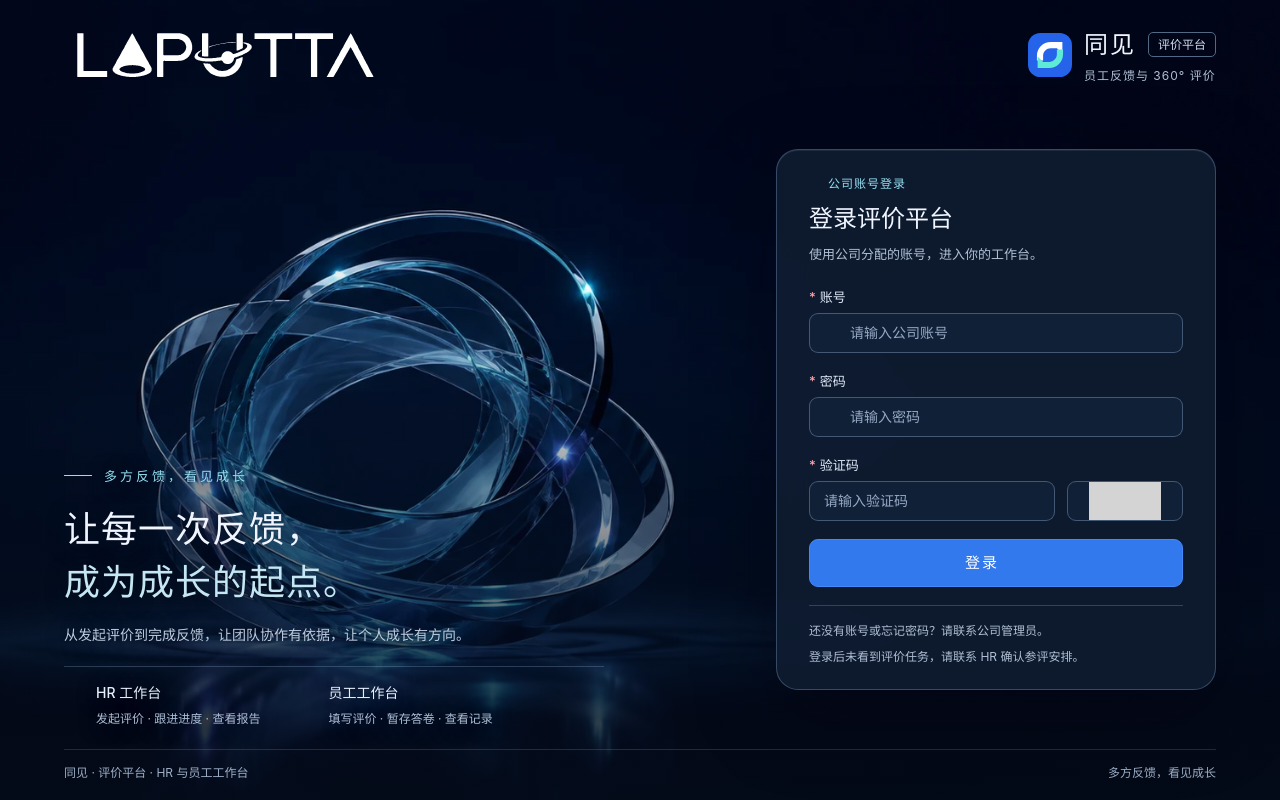
Test: 评价平台登录表单 › 验证码刷新期间不允许提交，并清空上一张验证码输入
Type " employee " into the field named "username".
click(1009, 333); type(" employee ")  # box x1=850 y1=314 x2=1168 y2=352
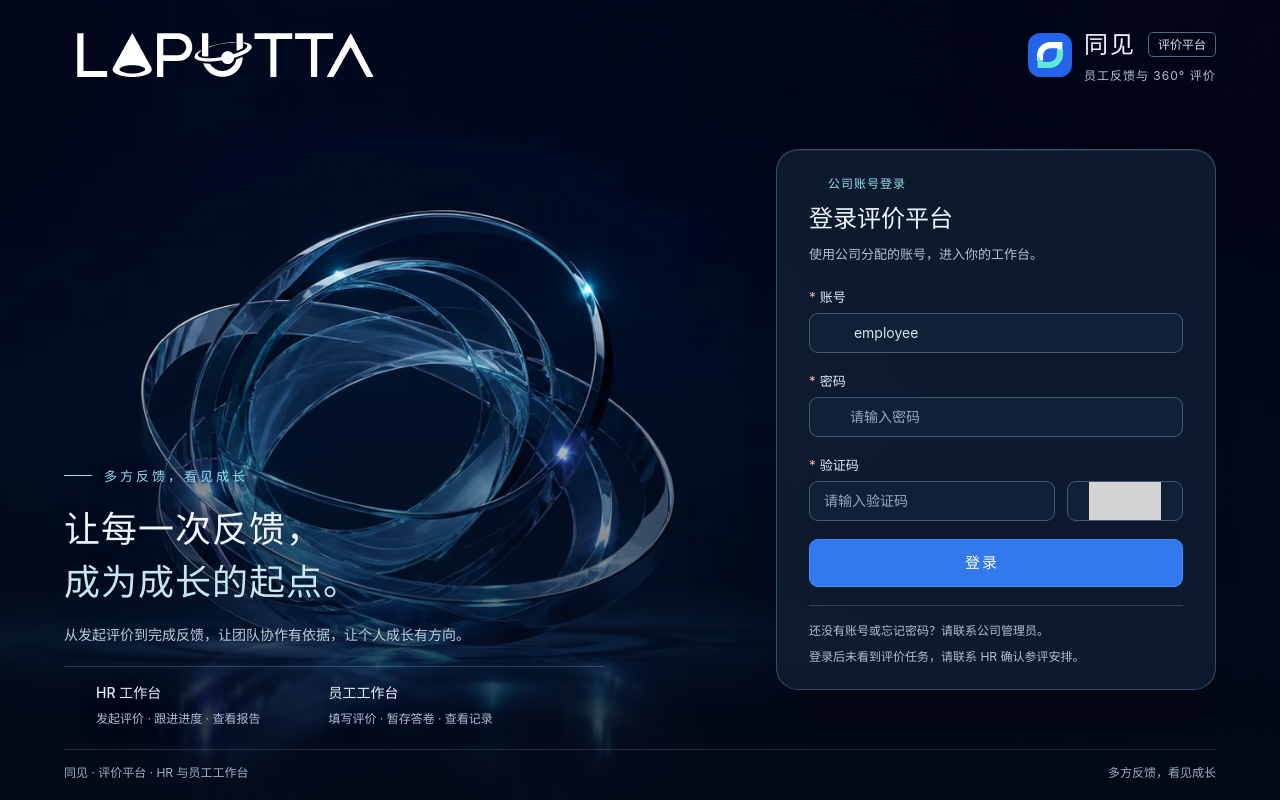
Type "test-password" into the password field named "password".
click(1009, 417); type("test-password")  # box x1=850 y1=398 x2=1168 y2=436
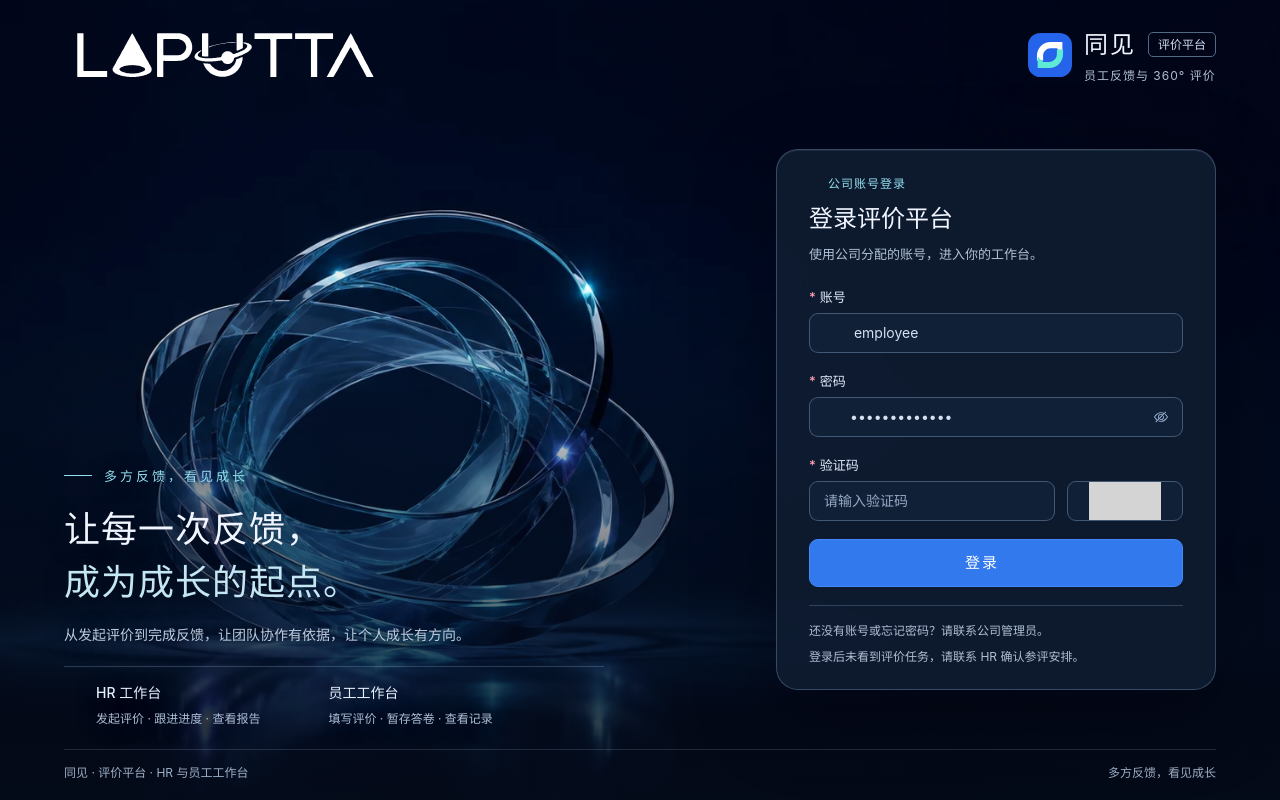
Type "test-code" into the field named "code".
click(932, 501); type("test-code")  # box x1=824 y1=482 x2=1040 y2=520
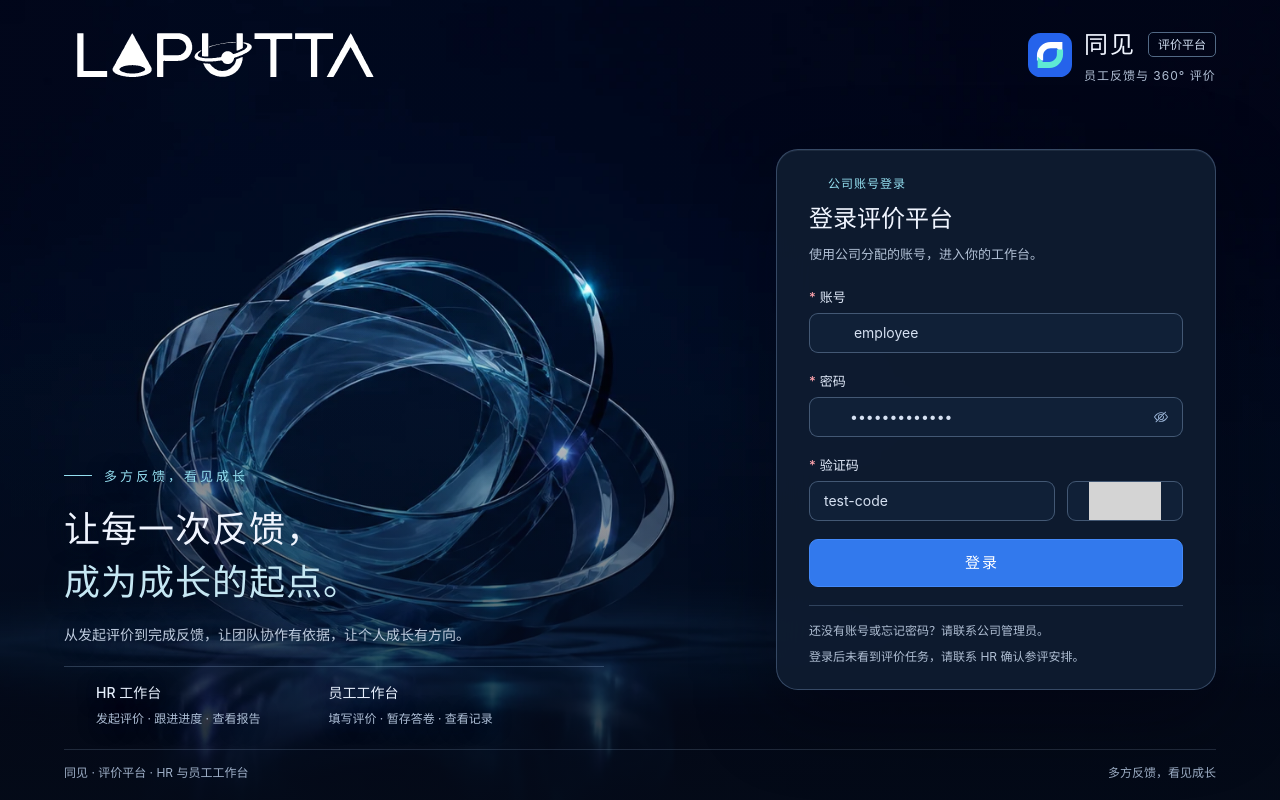
Click the button named "刷新验证码".
click(1125, 501)  # box x1=1067 y1=481 x2=1183 y2=521
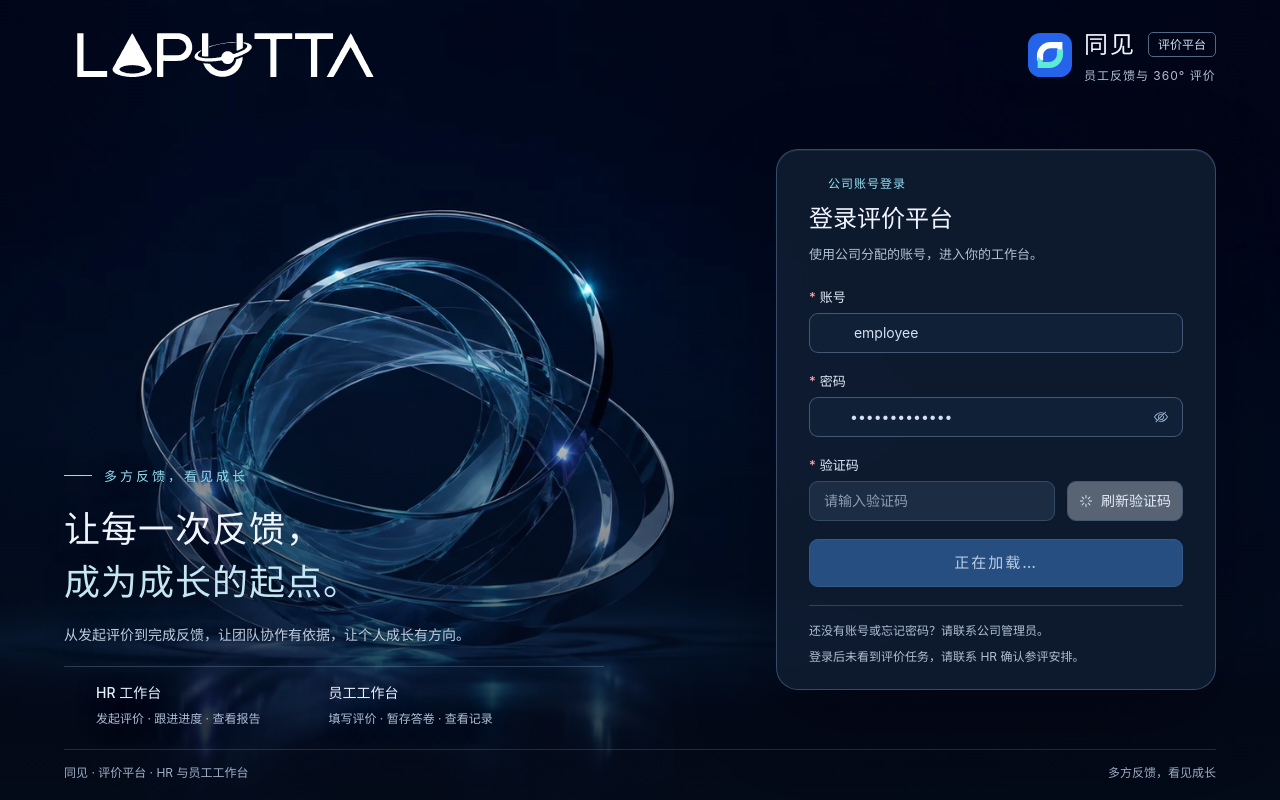
expect the button with class "entry-login-button" is disabled: met, box x1=809 y1=539 x2=1183 y2=587
expect the field named "code" is empty: met, box x1=824 y1=482 x2=1040 y2=520
Press Enter in the password field named "password", box x1=850 y1=398 x2=1146 y2=436
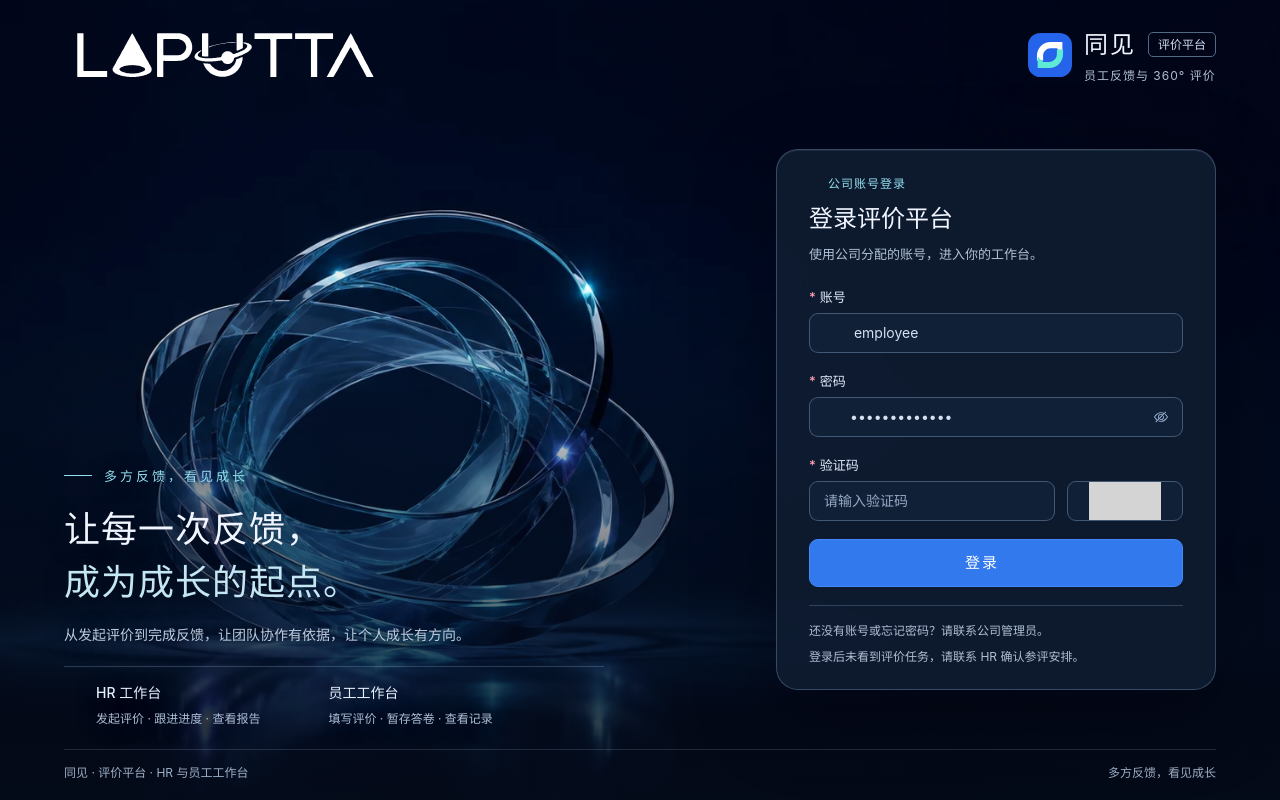
expect the button with class "entry-login-button" is enabled: met, box x1=809 y1=539 x2=1183 y2=587
